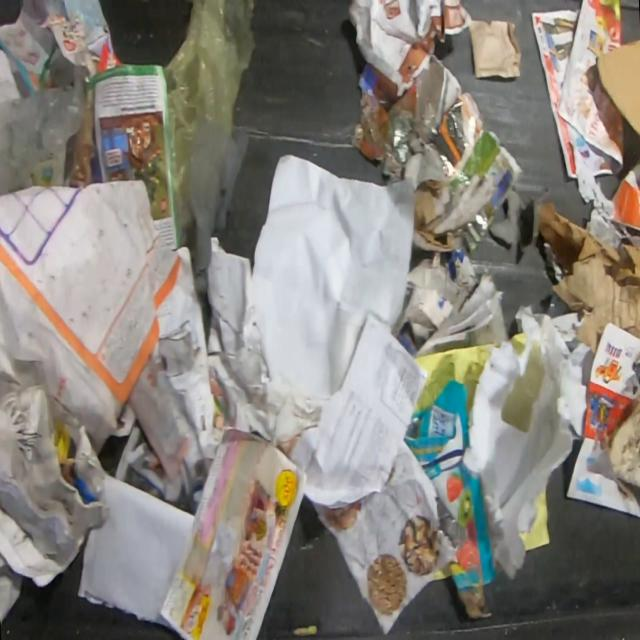cardboard: (0, 371, 111, 590), (403, 379, 500, 622), (383, 98, 498, 254), (538, 201, 640, 354), (401, 249, 479, 349), (596, 39, 639, 141), (468, 19, 522, 79), (608, 396, 640, 491)
soft_plastic: (162, 0, 257, 249), (0, 56, 90, 196), (185, 114, 251, 280)
